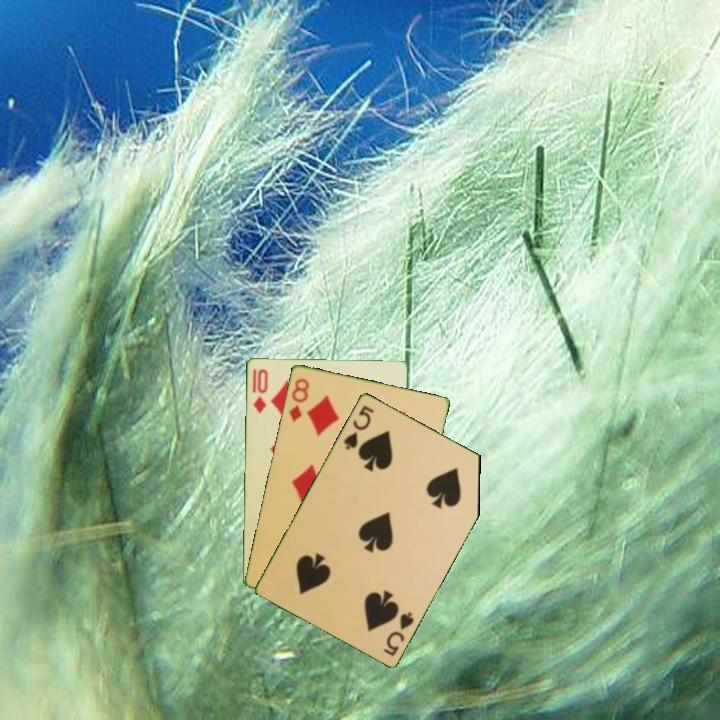10d: (250, 365, 270, 416)
5s: (340, 402, 377, 453), (380, 608, 416, 659)
8d: (285, 374, 312, 424)
